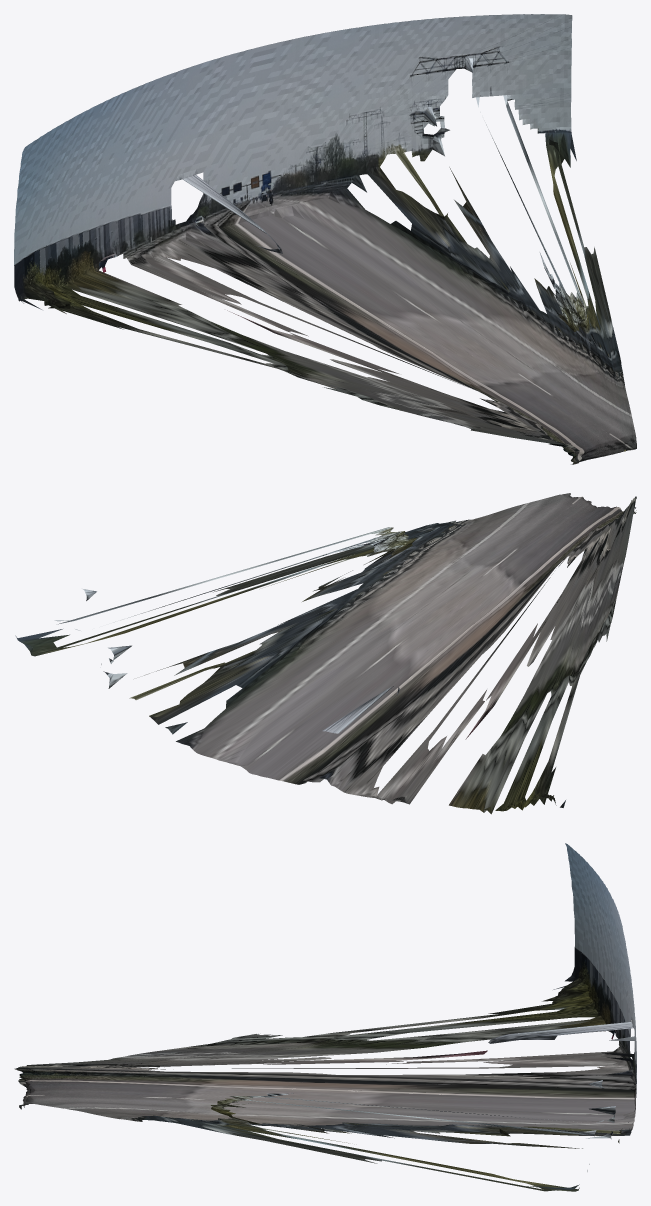
3 renders of one model, top to bottom at view 1: azimuth 30°, elevation 25°; view 2: azimuth 150°, elevation 25°; view 3: azimuth 270°, elevation 25°, orthographic. The views are drawn at different scales.
Visible parts, largest first — view 1: defaultobject; view 2: defaultobject; view 3: defaultobject.
Part boxes in pixels (x1=…): defaultobject: x1=14, y1=14, x2=636, y2=464; defaultobject: x1=15, y1=493, x2=636, y2=814; defaultobject: x1=14, y1=843, x2=636, y2=1191.
Bounding box in the file's own units: 41.16 × 12.78 × 44.91.
Materials: 1 (1 with a texture image).
